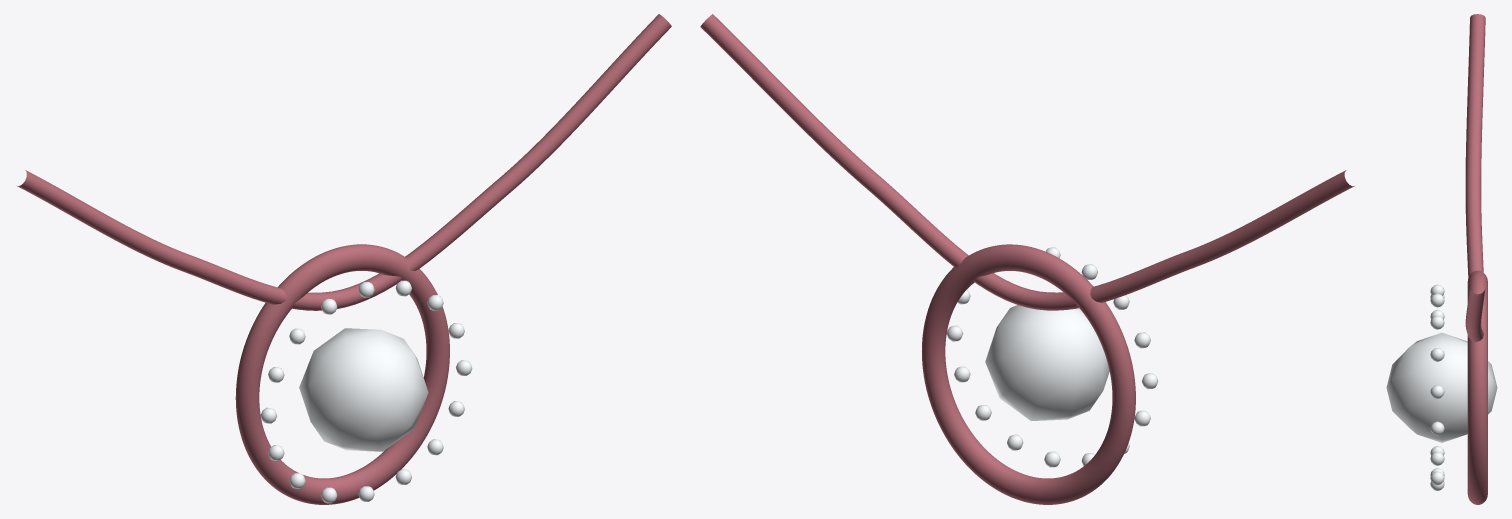
The model's file is aur-002-celestia-pendant.glb.
The picture shows the model from 3 angles, left to right: view 1: azimuth 30°, elevation 25°; view 2: azimuth 150°, elevation 25°; view 3: azimuth 270°, elevation 25°; orthographic projection. The views are drawn at different scales.
Visible parts, largest first — view 1: pendant_frame, rose_gold_chain, pendant_diamond; view 2: pendant_frame, rose_gold_chain, pendant_diamond; view 3: pendant_diamond, rose_gold_chain, pendant_frame, pave_diamond (×7).
Part boxes in pixels (bbox=[...]): pendant_frame: bbox=[235, 244, 449, 504]; rose_gold_chain: bbox=[16, 14, 671, 310]; pendant_diamond: bbox=[299, 328, 428, 451]; pendant_frame: bbox=[922, 244, 1135, 504]; rose_gold_chain: bbox=[700, 14, 1354, 310]; pendant_diamond: bbox=[985, 305, 1109, 420]; pendant_diamond: bbox=[1386, 332, 1497, 442]; rose_gold_chain: bbox=[1465, 14, 1485, 341]; pendant_frame: bbox=[1467, 270, 1487, 504]; pave_diamond (×7): bbox=[1430, 293, 1444, 485].
Bounding box in the file's own units: 2.88 × 1.72 × 0.496.
